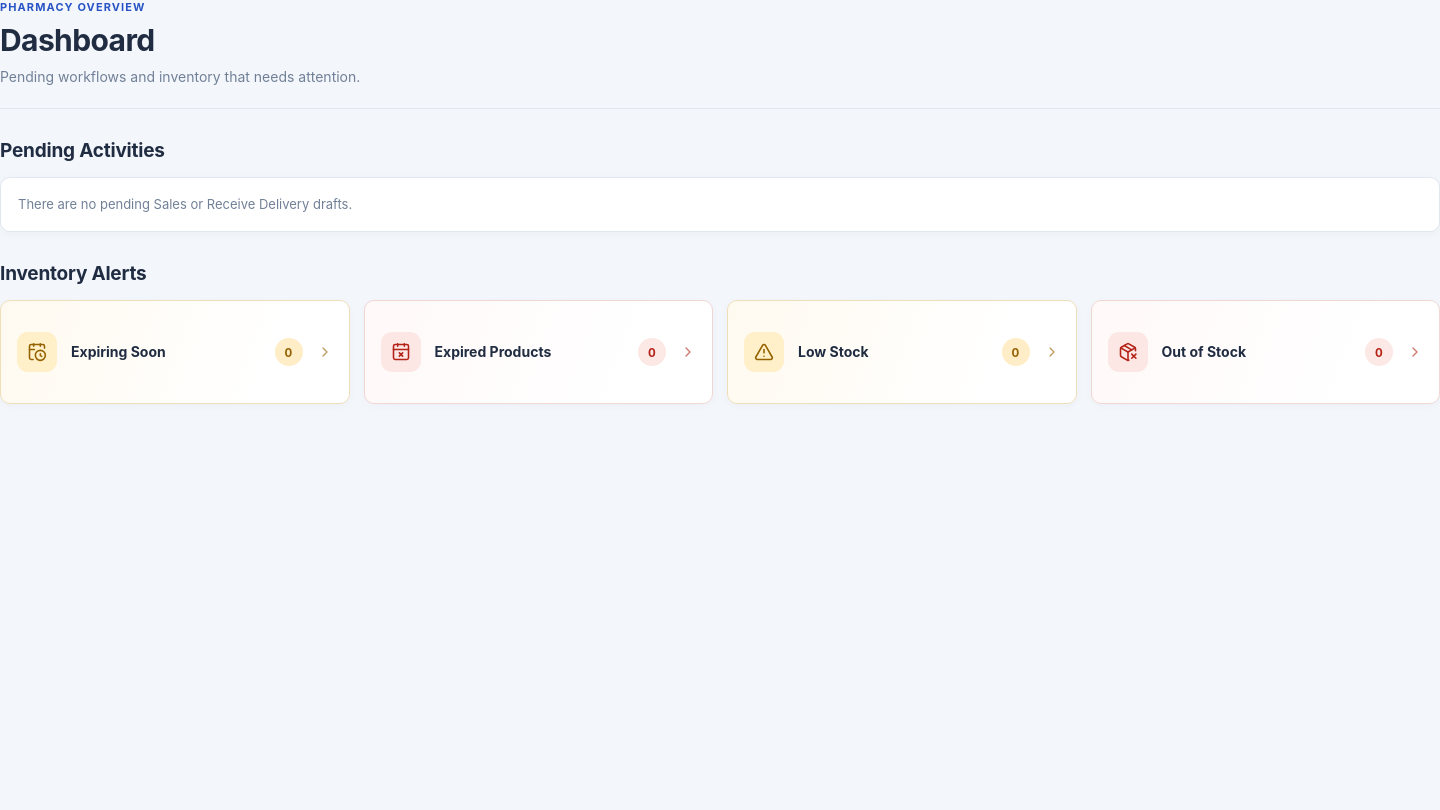
Scenario: Dashboard inventory alerts › shows zero totals for empty categories while keeping Expired Today conditional
Expected: the button with aria-label "Open Expired Products details, 0 affected products/variants" shows "0", [364,300,713,404]
Expected: the button with aria-label "Open Out of Stock details, 0 affected products/variants" shows "0", [1090,300,1439,404]
Click the button with aria-label "Open Low Stock details, 0 affected products/variants".
click(764, 352)  # box [727,300,1076,404]
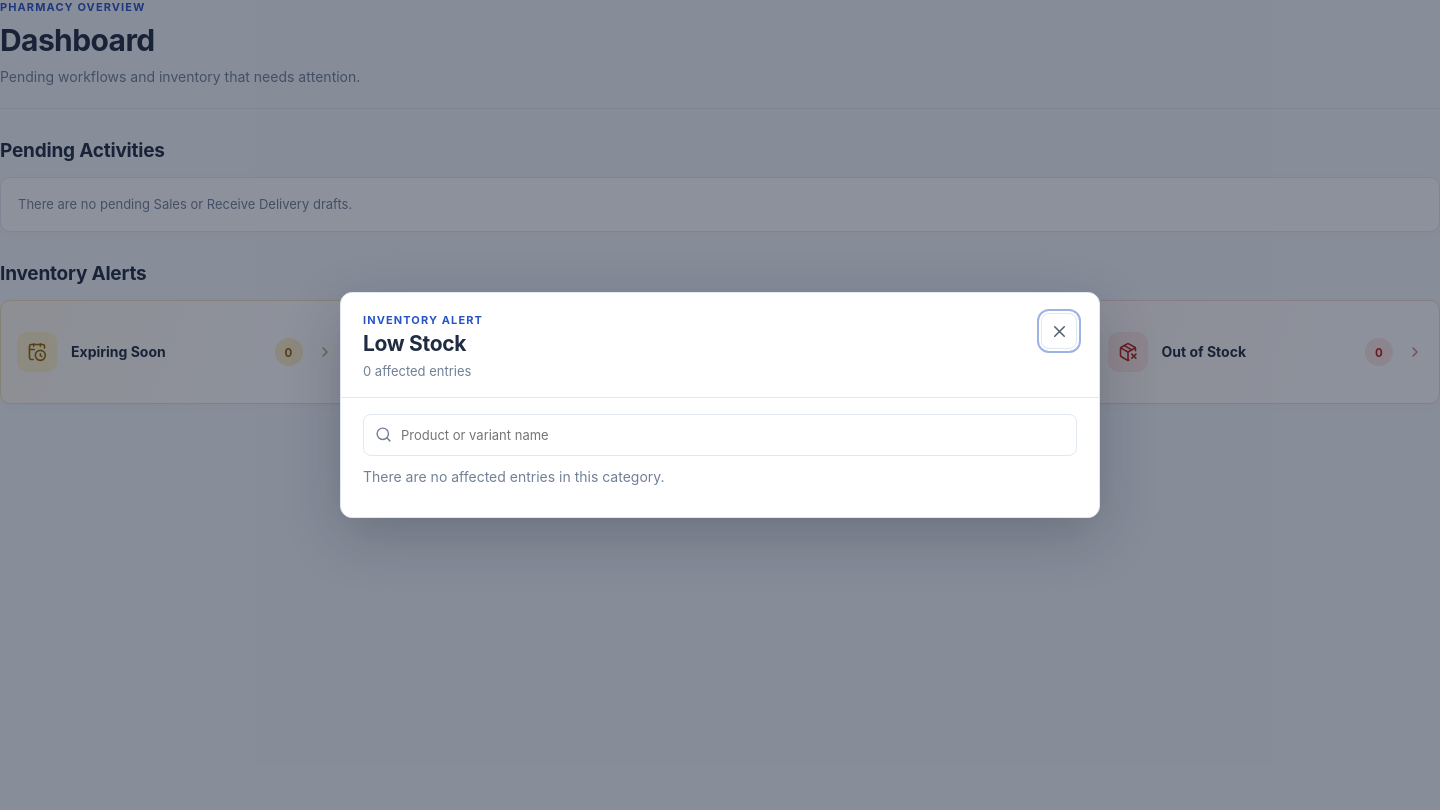
Expected: the dialog "Low Stock" shows "There are no affected entries in this category.", [363,468,665,485]
